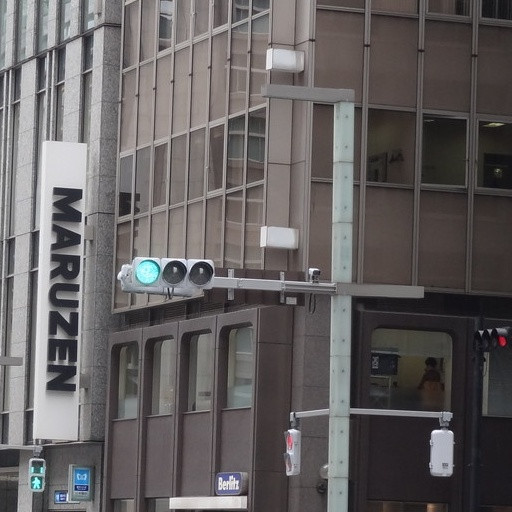Pedestrian_Signal_Blue: (24, 452, 52, 497)
Traffic_Signal_Blue: (129, 250, 221, 292)
